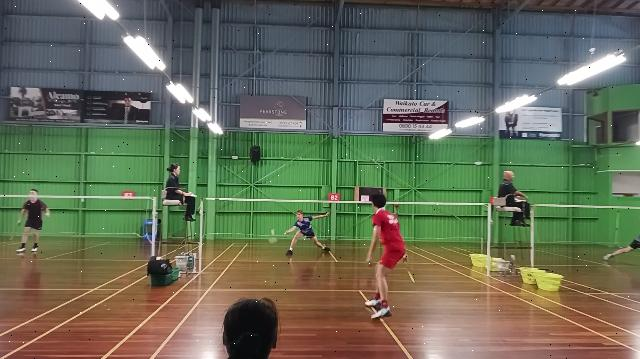Shuttlecock: (269, 228, 277, 236)
